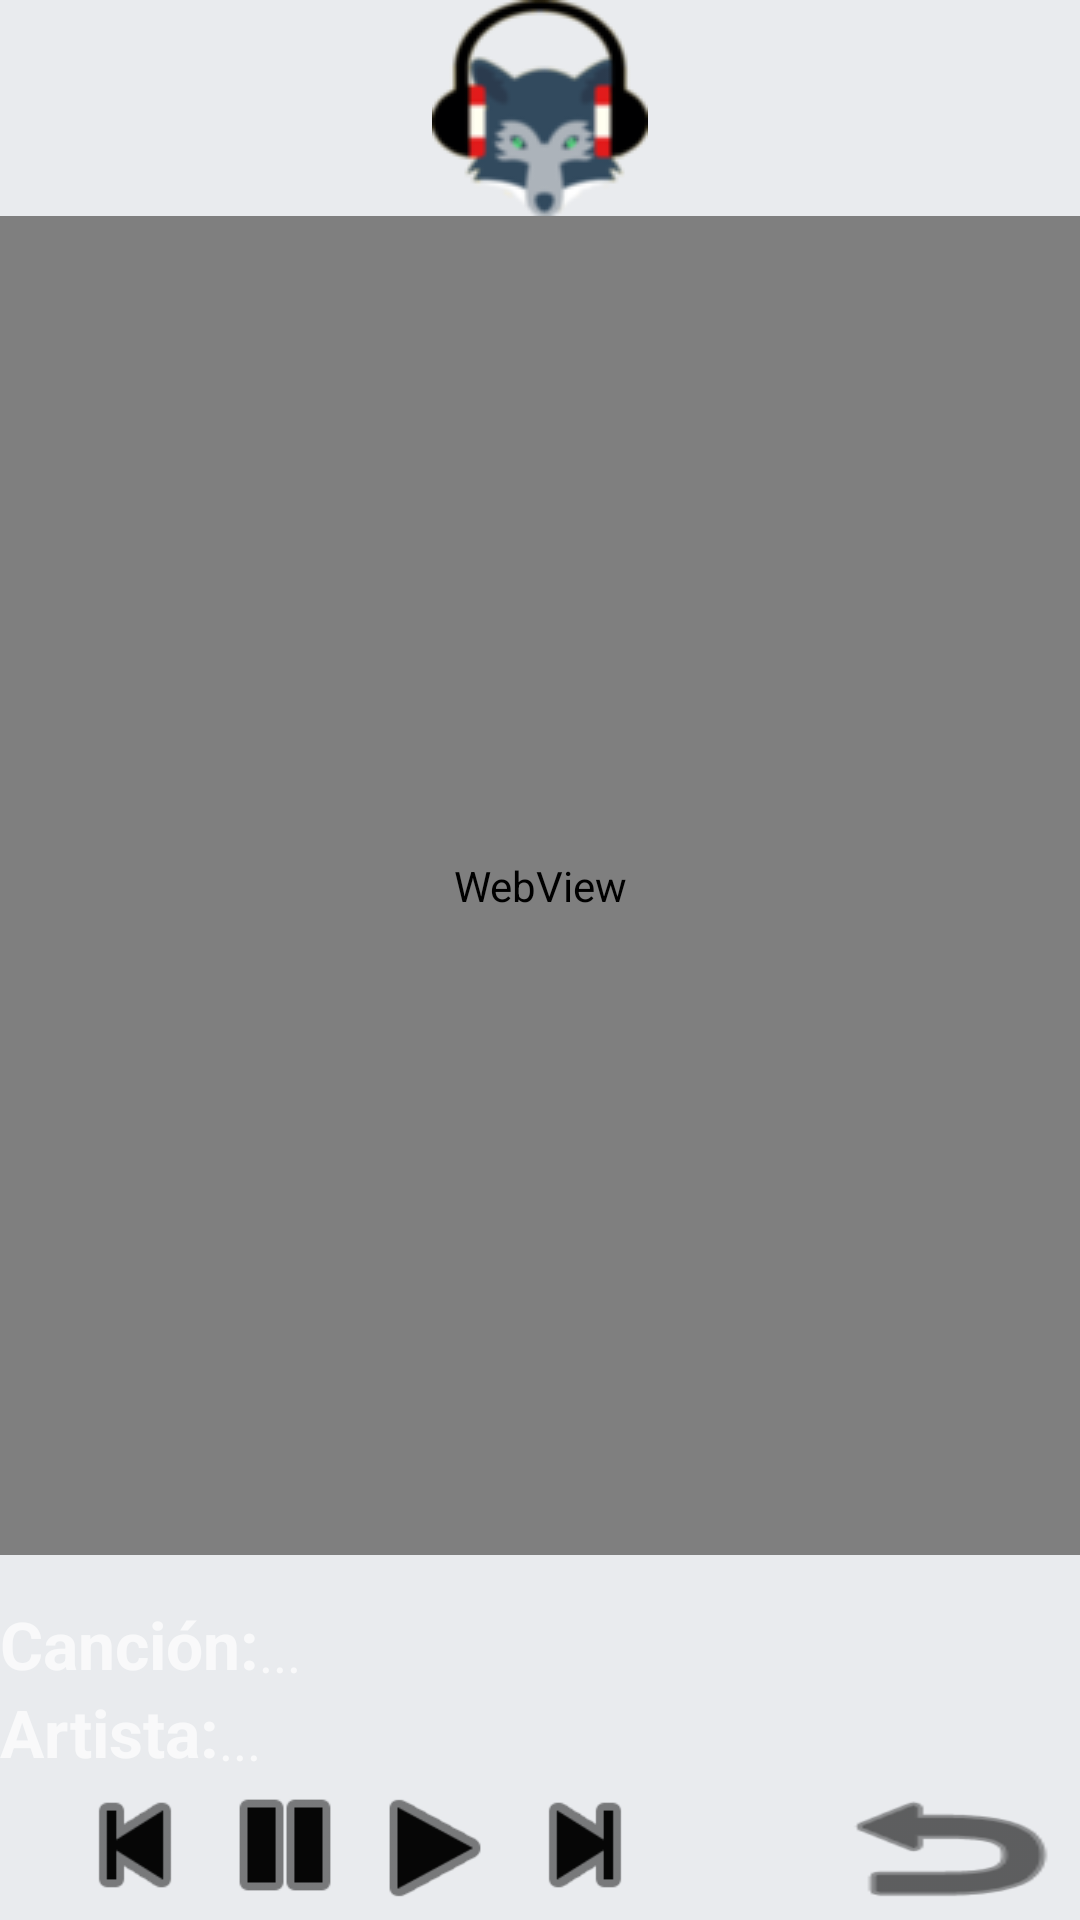

Icons on this 1080*1920 Android screen, each with the point to tap as (x,y):
next: (585,1845)
pause: (285,1845)
play: (435,1848)
previous: (135,1845)
revert: (951,1849)
